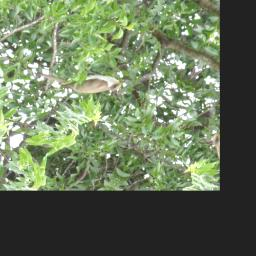Cuckoo: (31, 41, 129, 114)
